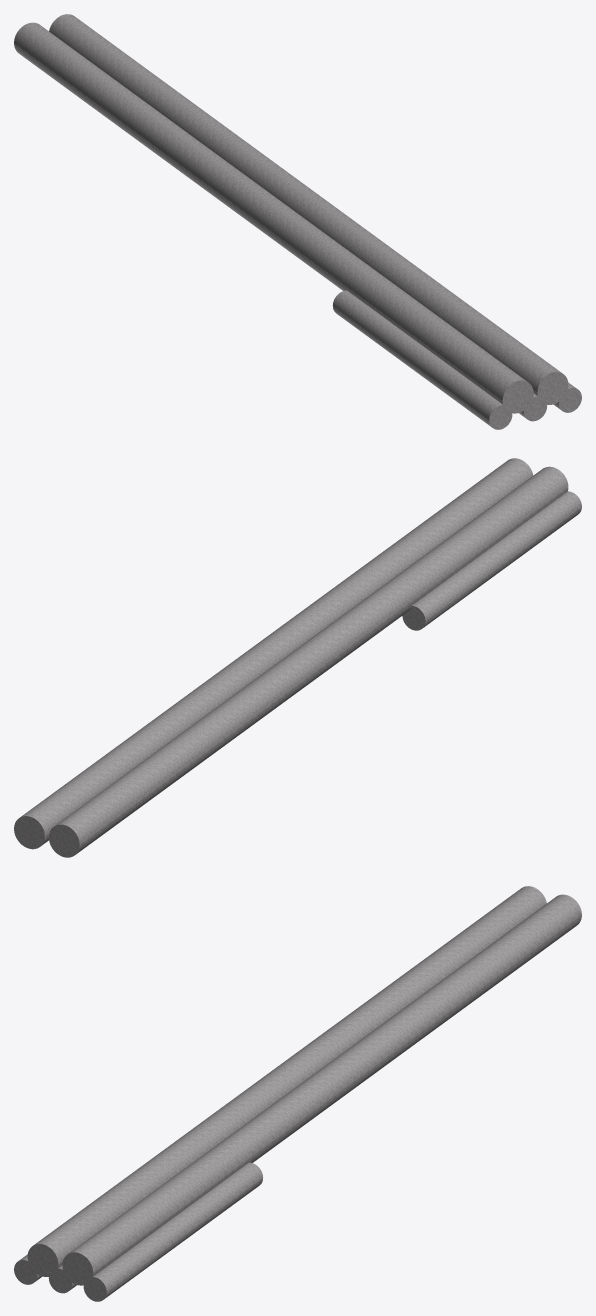
3 views of the same model, one above another, from view 1: azimuth 30°, elevation 25°; view 2: azimuth 150°, elevation 25°; view 3: azimuth 330°, elevation 25° (orthographic).
Parts seen in each view (by area): view 1: 0_3_1_2_2_0_0_2_1; view 2: 0_3_1_2_2_0_0_2_1; view 3: 0_3_1_2_2_0_0_2_1.
Part boxes in pixels (left/top/right/bottom): 0_3_1_2_2_0_0_2_1: left=14, top=14, right=581, bottom=429; 0_3_1_2_2_0_0_2_1: left=14, top=458, right=581, bottom=857; 0_3_1_2_2_0_0_2_1: left=14, top=886, right=581, bottom=1301.
Size of the model in its own units: 2.4 by 1.1 by 21.9.
Materials: 5 (5 with a texture image).
